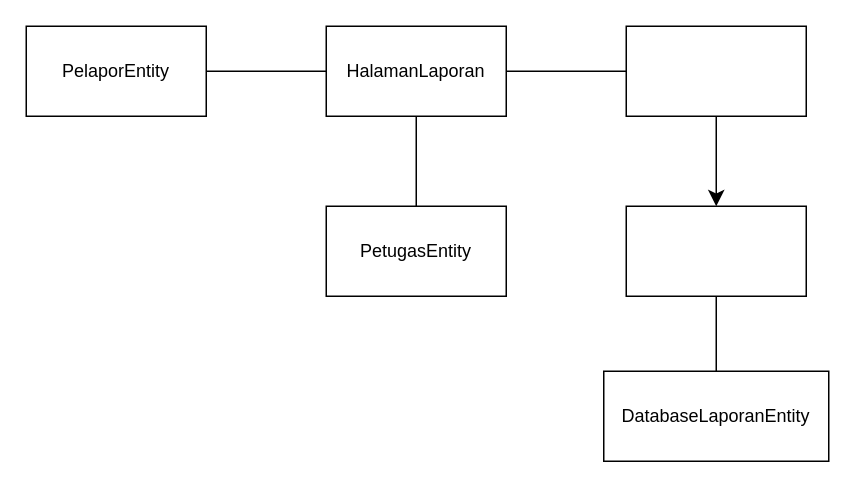
Image size: 855x488. Some labels were removed from this diagram. The centre of each missing label's shape, as x and y in pixels:
LaporanEntity: point (715, 250)
LikeController: point (715, 70)
